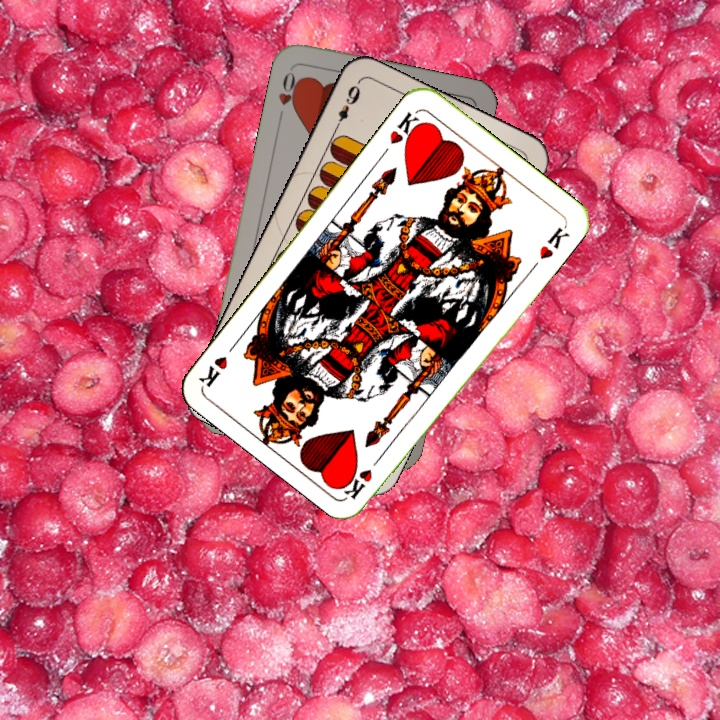E9: (330, 79, 363, 134)
HK: (341, 449, 387, 501), (385, 107, 426, 149)
HO: (274, 67, 304, 124)
